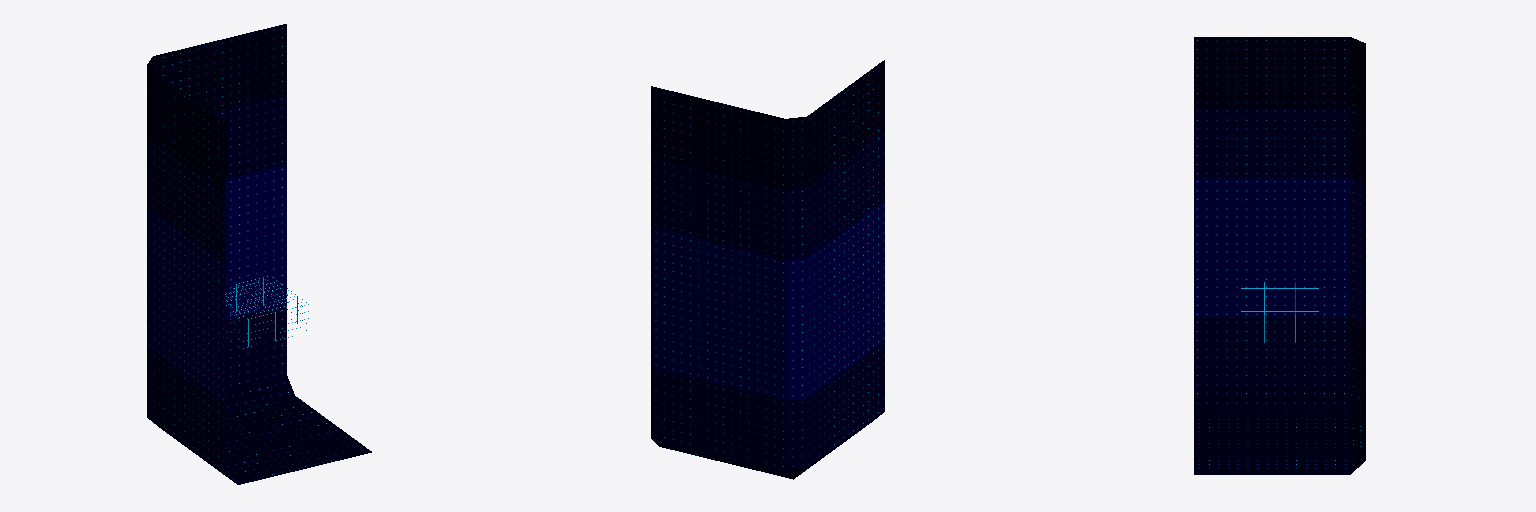
The picture shows the model from 3 angles: view 1: azimuth 30°, elevation 25°; view 2: azimuth 150°, elevation 25°; view 3: azimuth 270°, elevation 25°; orthographic projection.
Visible parts, largest first — view 1: Object01; view 2: Object01; view 3: Object01.
Boxes of the visible parts, x1=… form: Object01: x1=147, y1=24, x2=371, y2=484; Object01: x1=651, y1=60, x2=884, y2=479; Object01: x1=1194, y1=37, x2=1365, y2=474.
Bounding box in the file's own units: 2200 × 5200 × 2200.
Materials: 1 (1 with a texture image).